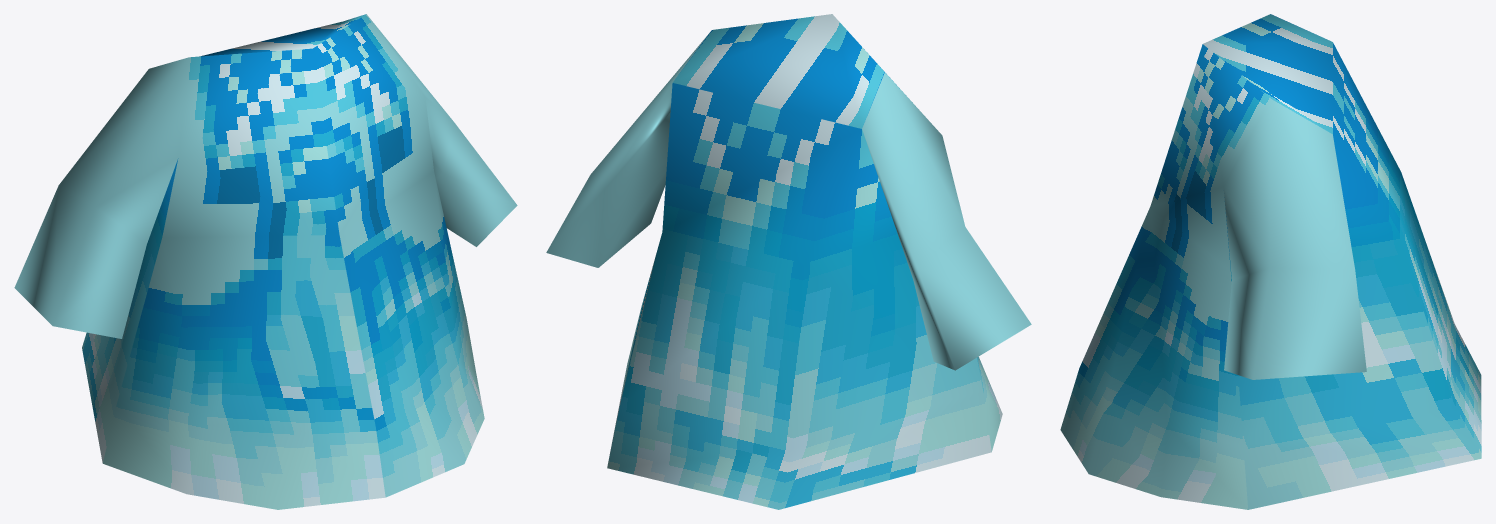
3 renders of one model, left to right at view 1: azimuth 30°, elevation 25°; view 2: azimuth 150°, elevation 25°; view 3: azimuth 270°, elevation 25°, orthographic. The views are drawn at different scales.
Visible parts, largest first — view 1: 2578dress000_r; view 2: 2578dress000_r; view 3: 2578dress000_r.
Boxes of the visible parts, x1,y1,x2,y2 form: 2578dress000_r: (14, 14, 517, 509); 2578dress000_r: (546, 14, 1031, 509); 2578dress000_r: (1060, 14, 1481, 509).
Size of the model in its own units: 1.09 by 0.8945 by 0.8848.
Materials: 1 (1 with a texture image).
